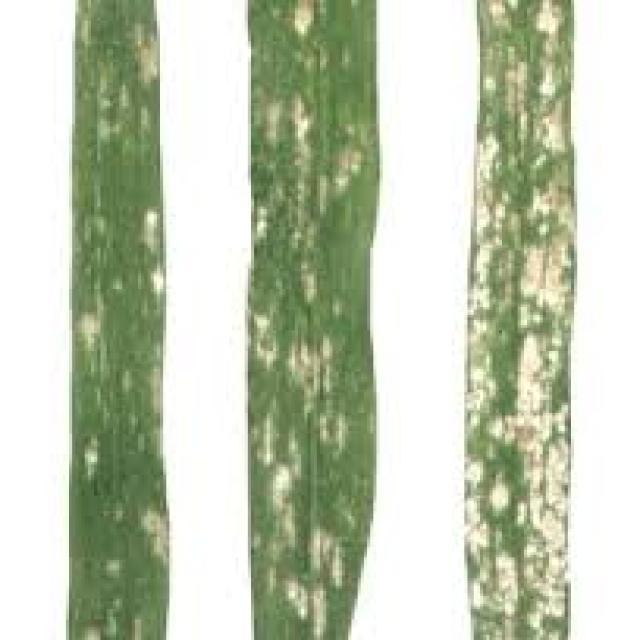Powdery Mildew: (244, 2, 367, 640), (473, 3, 577, 640), (70, 4, 170, 640)
